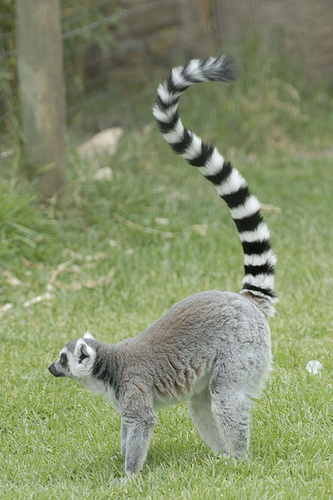cat: (45, 52, 279, 482)
